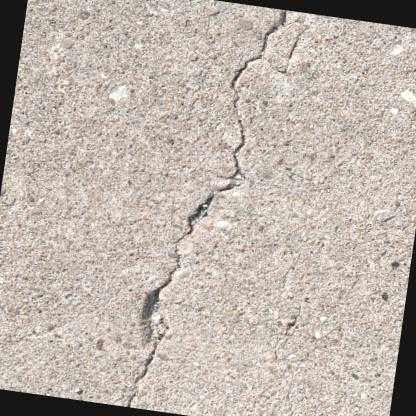crack: (126, 8, 287, 407)
